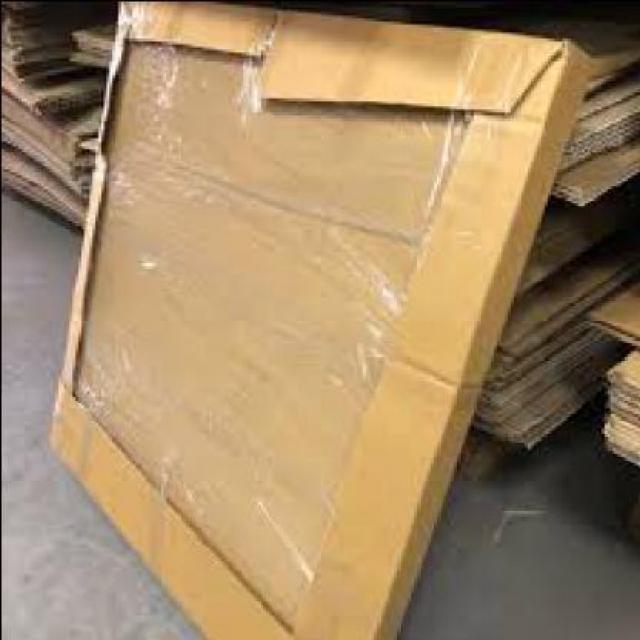box: (42, 1, 589, 637), (70, 12, 639, 200), (466, 197, 637, 451), (2, 89, 100, 228), (2, 2, 91, 83), (597, 352, 637, 466), (583, 280, 637, 348)
